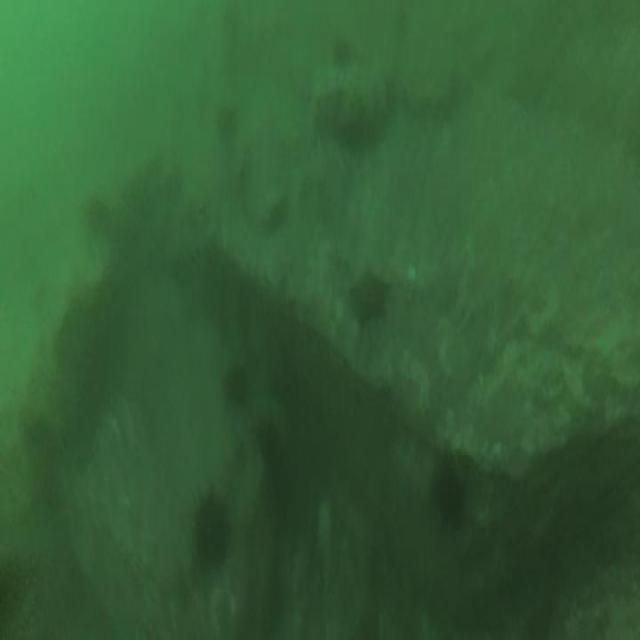echinus: (194, 495, 229, 567), (434, 469, 466, 528), (225, 368, 250, 405)
starfish: (350, 272, 388, 325)
